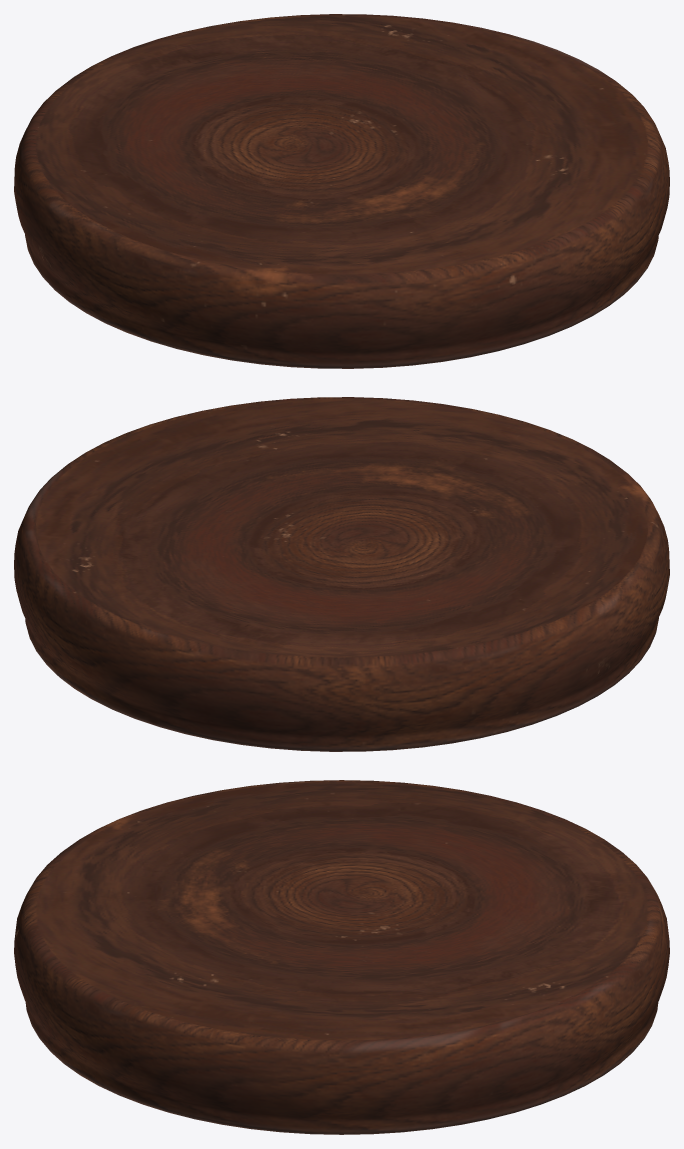
The model's file is SM_WoodenBowl_T.fbx.
The picture shows the model from 3 angles, top to bottom: view 1: azimuth 30°, elevation 25°; view 2: azimuth 150°, elevation 25°; view 3: azimuth 270°, elevation 25°; orthographic projection.
Visible parts, largest first — view 1: SM_WoodenBowl_T; view 2: SM_WoodenBowl_T; view 3: SM_WoodenBowl_T.
Boxes of the visible parts, left/top/right/bottom form: SM_WoodenBowl_T: left=14, top=14, right=669, bottom=368; SM_WoodenBowl_T: left=14, top=397, right=669, bottom=751; SM_WoodenBowl_T: left=14, top=780, right=669, bottom=1134.
Size of the model in its own units: 19.19 by 2.98 by 19.19.
Materials: 1 (1 with a texture image).
